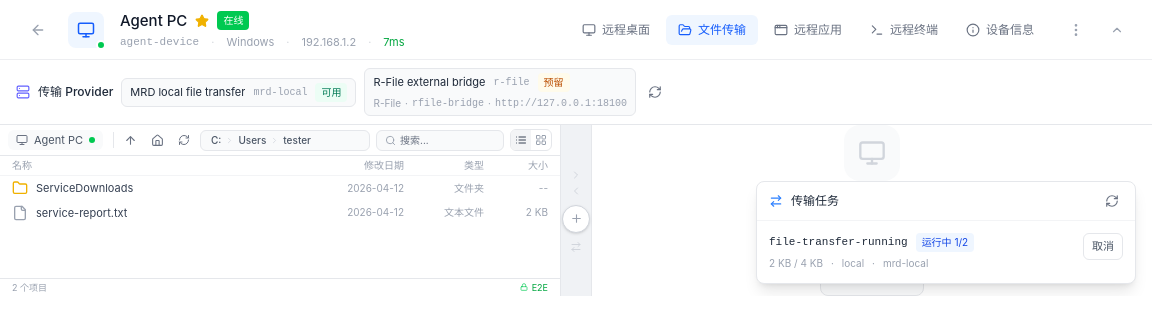
Test case: DeviceDetailPage info tab › cancels a running service-owned file transfer task from the file transfer tab
Check: the text "运行中 1/2" is shown, box [916,233,974,252]
Click the button with aria-label "取消 file-transfer-running" at x=1103, y=246, box [1083,233,1123,260]
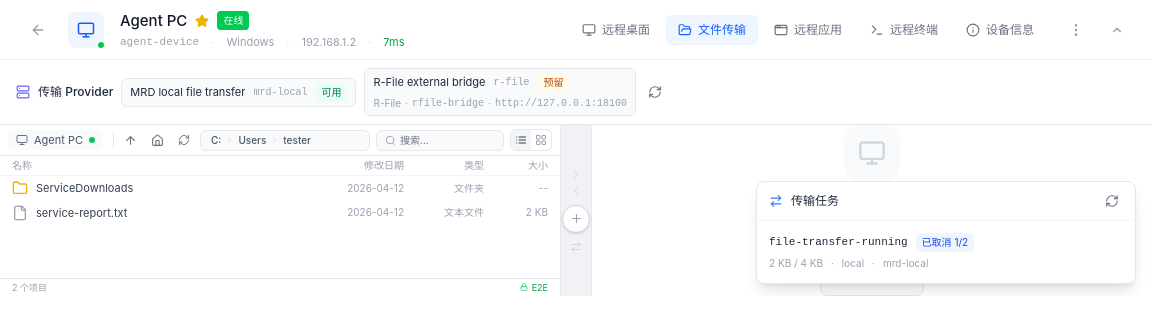
Check: the text "已取消 1/2" is shown, box [916,233,974,252]
